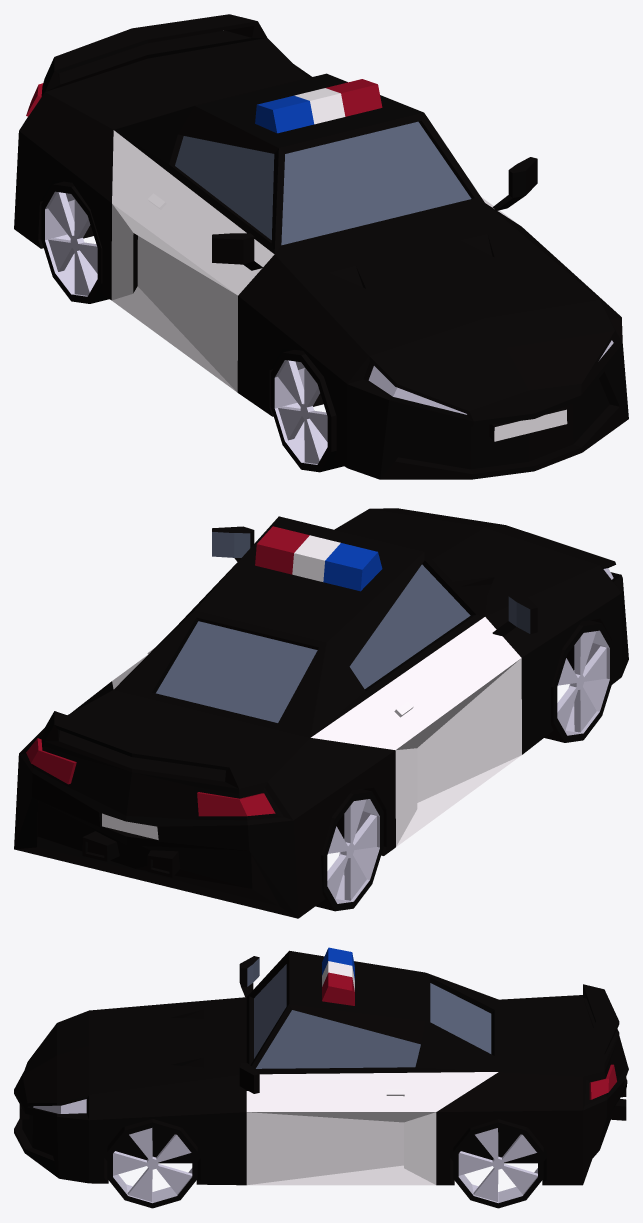
File: Police_Sports.gltf
The picture shows the model from 3 angles, top to bottom: view 1: azimuth 30°, elevation 25°; view 2: azimuth 150°, elevation 25°; view 3: azimuth 270°, elevation 25°; orthographic projection. The views are drawn at different scales.
Parts seen in each view (by area): view 1: Police_Sports, Police_Sports_wheel_front_right, Police_Sports_wheel_rear_right; view 2: Police_Sports, Police_Sports_wheel_front_right, Police_Sports_wheel_rear_right; view 3: Police_Sports, Police_Sports_wheel_front_left, Police_Sports_wheel_rear_left.
Boxes of the visible parts, bbox=[...] form: Police_Sports: bbox=[14, 14, 628, 479]; Police_Sports_wheel_front_right: bbox=[271, 349, 343, 472]; Police_Sports_wheel_rear_right: bbox=[41, 181, 109, 303]; Police_Sports: bbox=[14, 508, 628, 918]; Police_Sports_wheel_front_right: bbox=[544, 620, 613, 742]; Police_Sports_wheel_rear_right: bbox=[315, 789, 383, 911]; Police_Sports: bbox=[14, 947, 628, 1185]; Police_Sports_wheel_front_left: bbox=[107, 1119, 197, 1208]; Police_Sports_wheel_rear_left: bbox=[453, 1119, 543, 1208].
Bounding box in the file's own units: 263 × 195 × 573.
